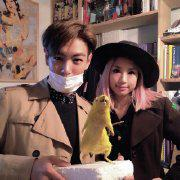NONE: (109, 65, 139, 96)
WRONG: (47, 50, 90, 93)
